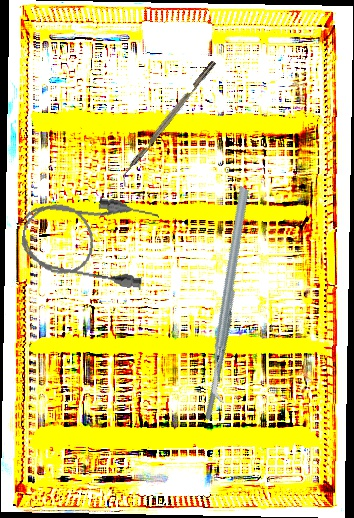Cannula: (17, 186, 161, 291)
Chopper: (136, 184, 328, 405), (157, 282, 281, 422), (114, 60, 223, 188)
